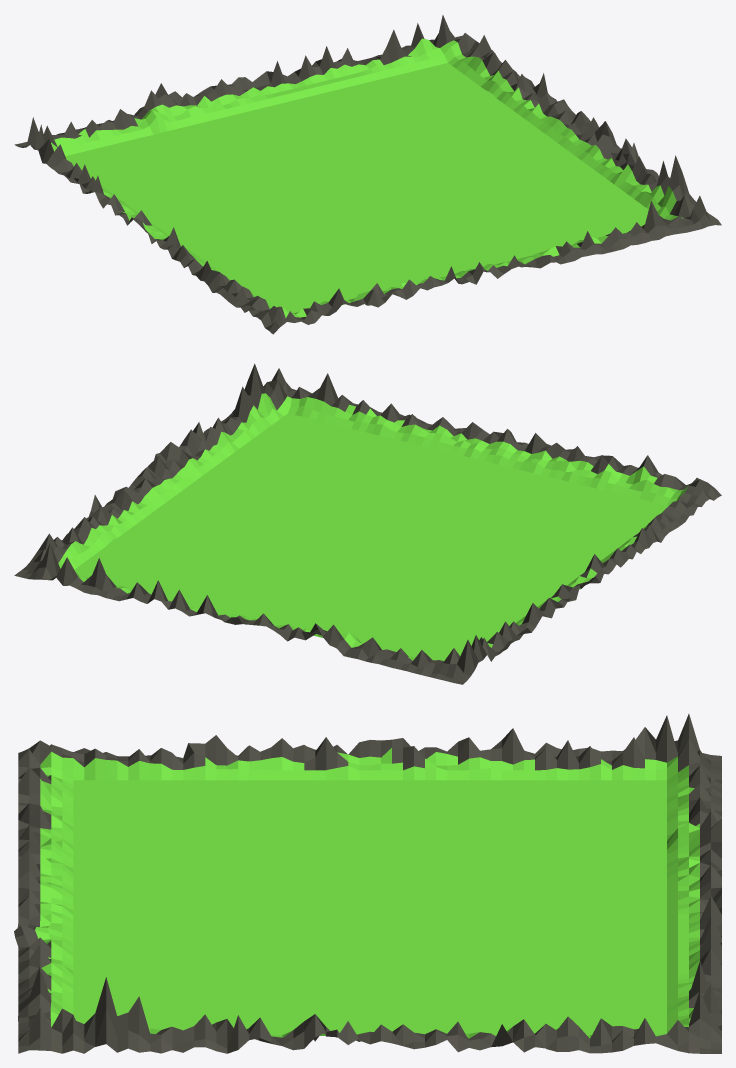
Rendered from world.fbx.
The picture shows the model from 3 angles, top to bottom: view 1: azimuth 30°, elevation 25°; view 2: azimuth 150°, elevation 25°; view 3: azimuth 270°, elevation 25°; orthographic projection. The views are drawn at different scales.
Visible parts, largest first — view 1: Plane; view 2: Plane; view 3: Plane.
Part boxes in pixels (left/top/right/bottom): Plane: left=14, top=15, right=721, bottom=334; Plane: left=14, top=363, right=721, bottom=684; Plane: left=14, top=714, right=721, bottom=1053.
Bounding box in the file's own units: 44284 × 5111 × 44557.
